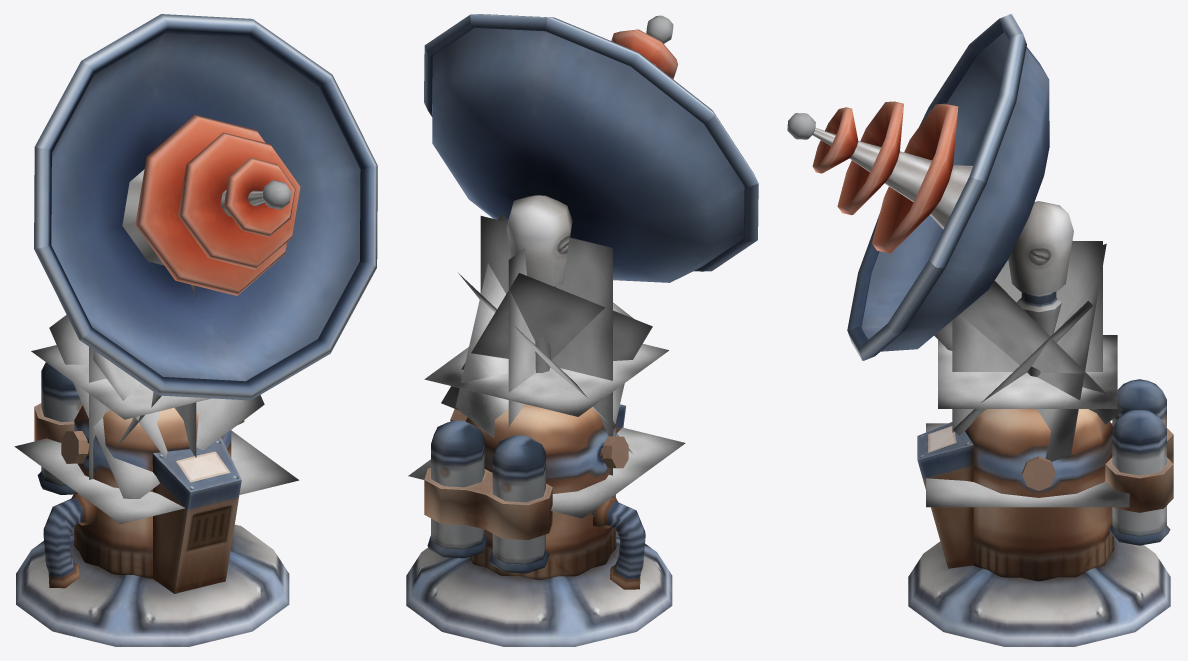
File: a_SWAsonic01.glb
3 views of the same model, side by side, from view 1: azimuth 30°, elevation 25°; view 2: azimuth 150°, elevation 25°; view 3: azimuth 270°, elevation 25° (orthographic). The views are drawn at different scales.
Parts seen in each view (by area): view 1: a_SWAsonic01; view 2: a_SWAsonic01; view 3: a_SWAsonic01.
Boxes of the visible parts, x1,y1,x2,y2 form: a_SWAsonic01: (14, 14, 377, 646); a_SWAsonic01: (406, 14, 758, 646); a_SWAsonic01: (787, 14, 1173, 646).
Bounding box in the file's own units: 1.49 × 2.41 × 1.51.
Materials: 2 (2 with a texture image).
